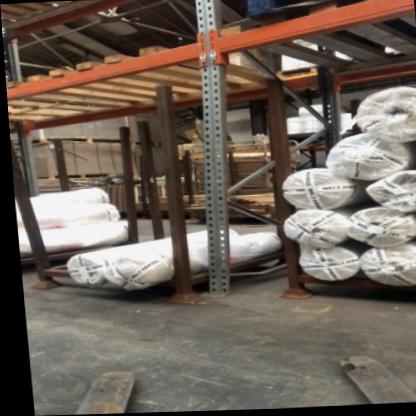vertical_damage: (198, 271, 232, 304)
